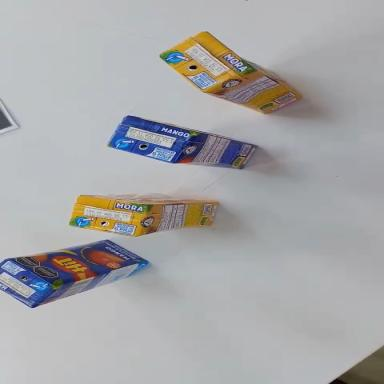HIT-MANGO: (0, 218, 151, 316), (107, 112, 257, 182)
HIT-MORA: (157, 18, 304, 138), (69, 191, 219, 243)
cara_F: (6, 220, 147, 299)
